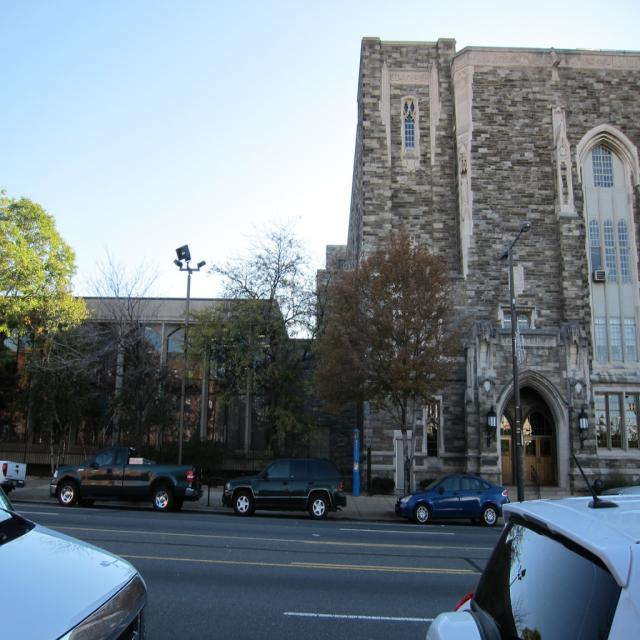car: (51, 441, 201, 508)
